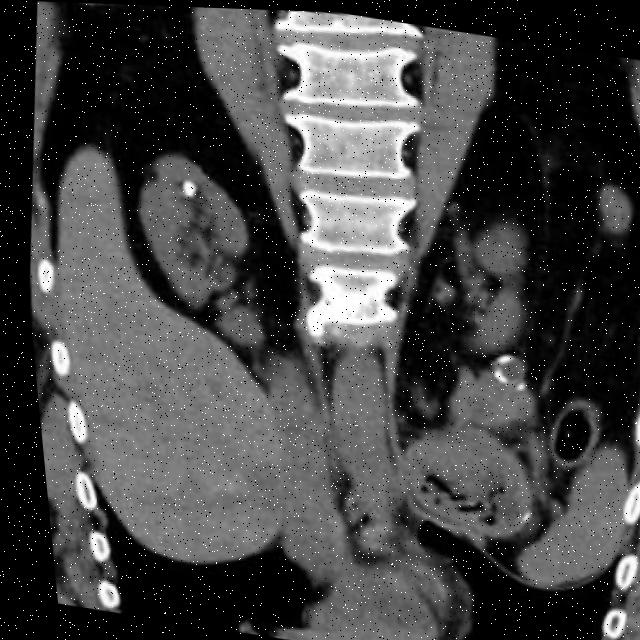Tas_Var: (170, 172, 197, 201)
